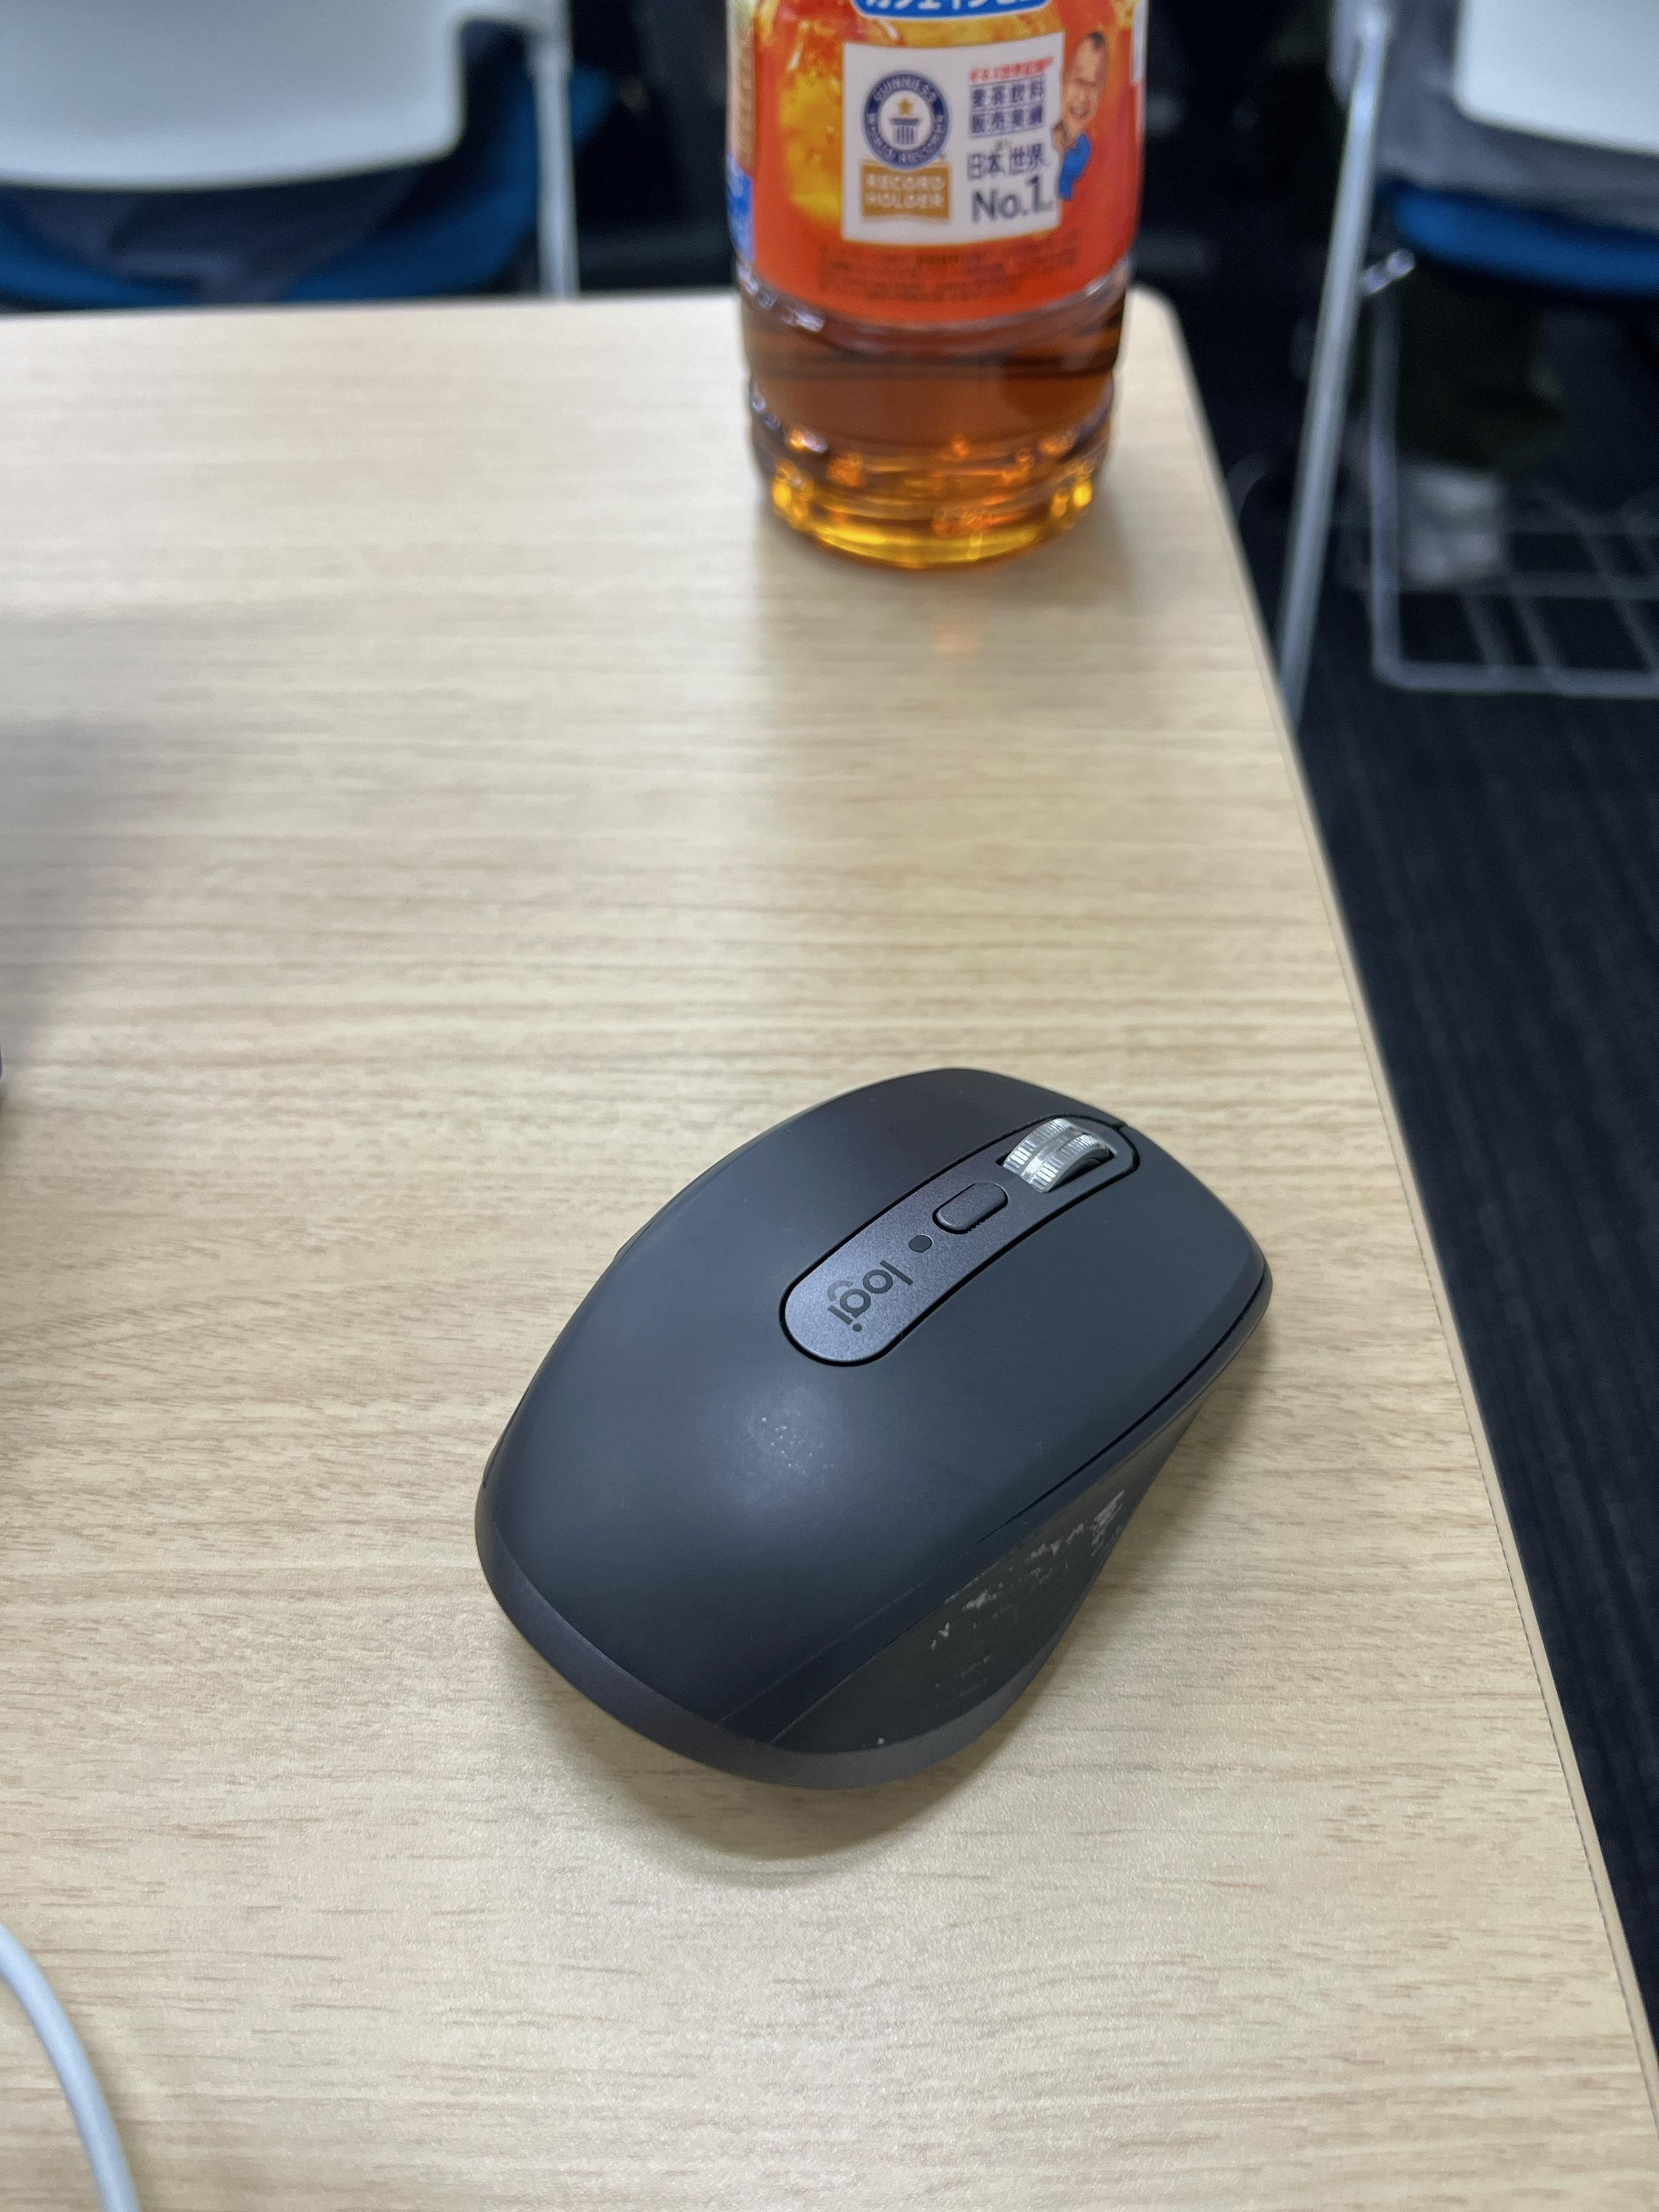mouse: (408, 989, 1295, 1844)
